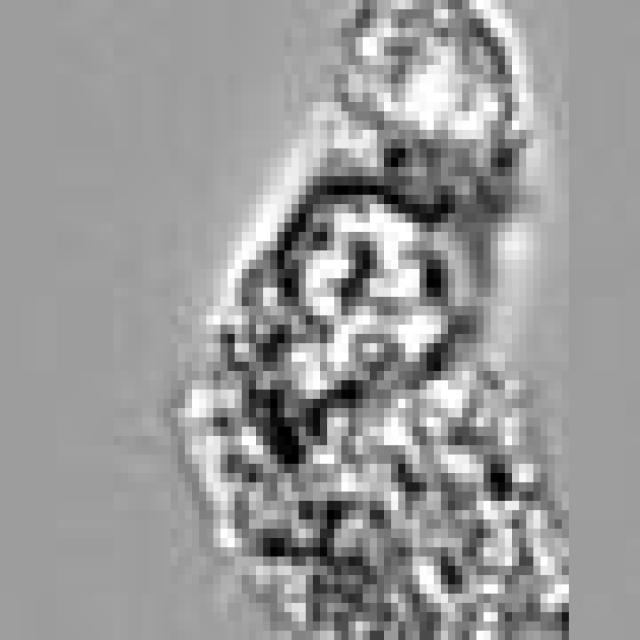Cancer Cell: (185, 167, 569, 640)
WBC: (349, 9, 519, 204)
